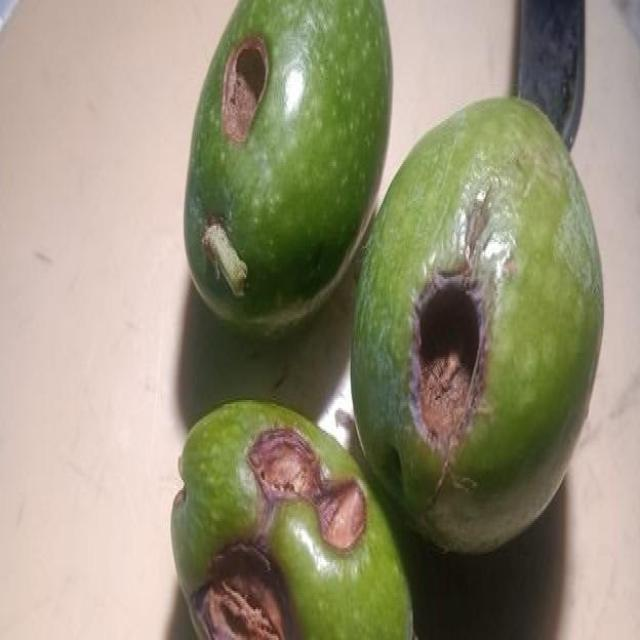Anthracnose: (352, 98, 603, 550), (184, 0, 392, 338), (172, 400, 418, 638)
